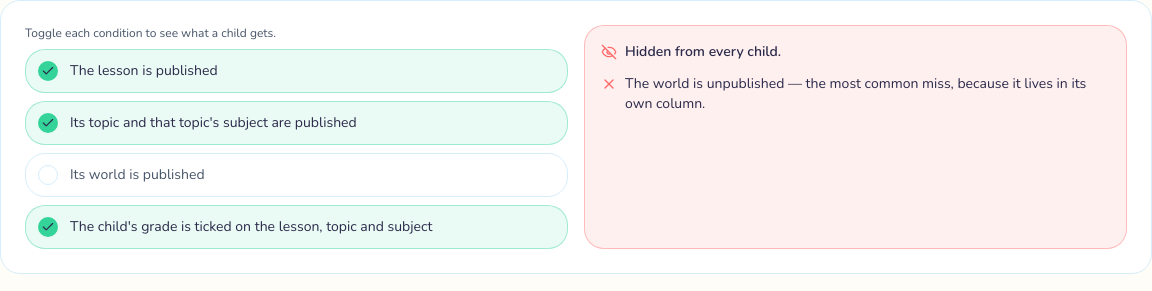
Test: VisibilityChecker › names every condition that fails
The width and height of the screenshot is (1152, 291).
Click the button "The child's grade is ticked on the lesson, topic and subject". click: (296, 227)
box: x1=25 y1=205 x2=568 y2=249
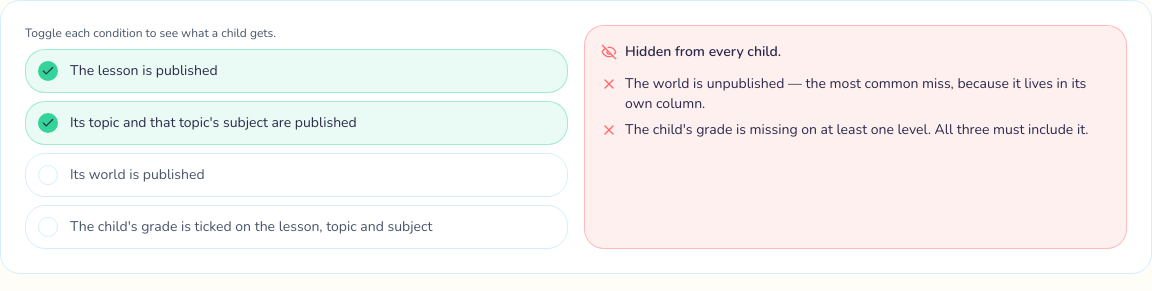
Expected: the list item "The child's grade is missing" is shown, x1=625 y1=120 x2=1088 y2=139
Expected: the number of list items "The world is unpublished" is 1, x1=601 y1=74 x2=1110 y2=114
